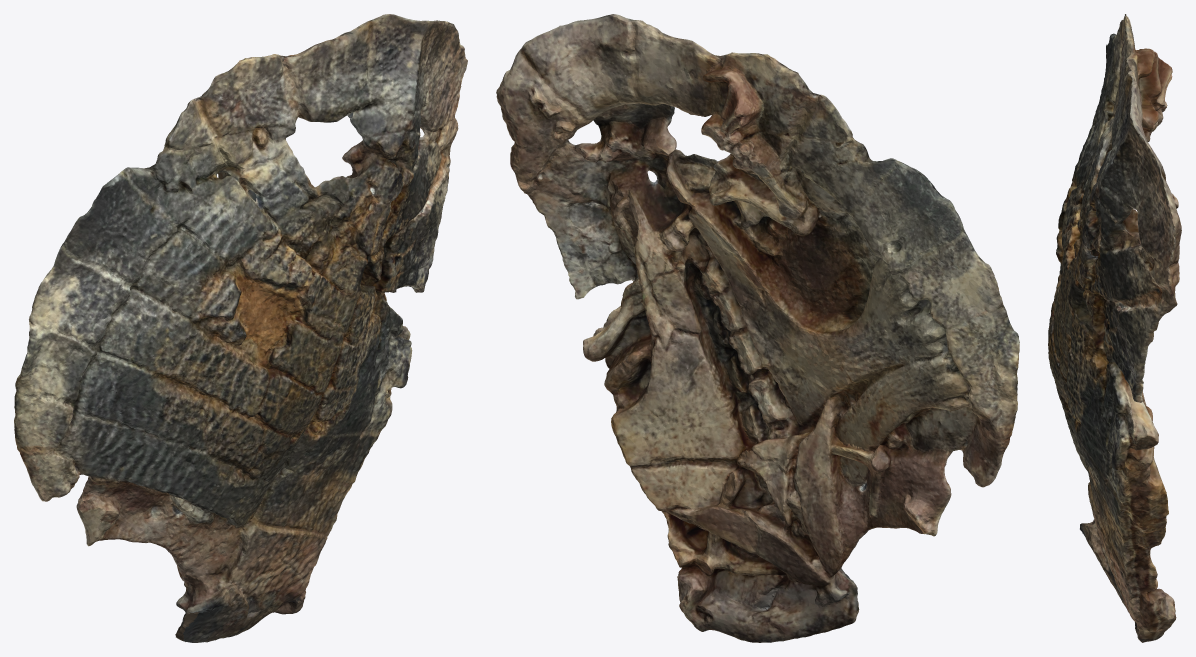
Rendered from 1-3_Turtle_Shell.glb.
3 renders of one model, left to right at view 1: azimuth 30°, elevation 25°; view 2: azimuth 150°, elevation 25°; view 3: azimuth 270°, elevation 25°, orthographic. The views are drawn at different scales.
Parts seen in each view (by area): view 1: 3DModel; view 2: 3DModel; view 3: 3DModel.
Part boxes in pixels (x1,y1,x2,y2): 3DModel: (14,14,467,642); 3DModel: (496,14,1019,642); 3DModel: (1048,14,1181,642).
Size of the model in its own units: 0.5831 by 0.6729 by 0.1342.
Materials: 1 (1 with a texture image).
